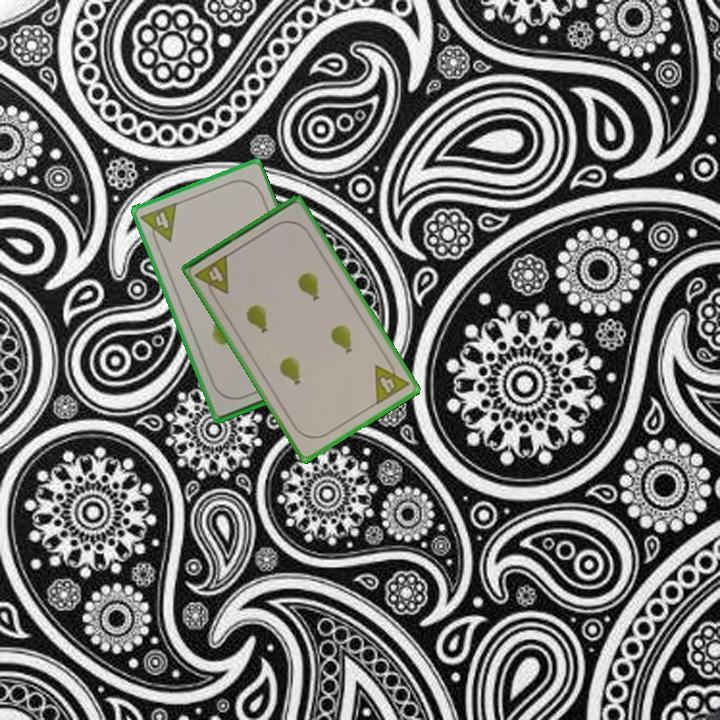4p: (371, 354, 412, 408), (137, 199, 180, 249), (191, 251, 232, 303)
